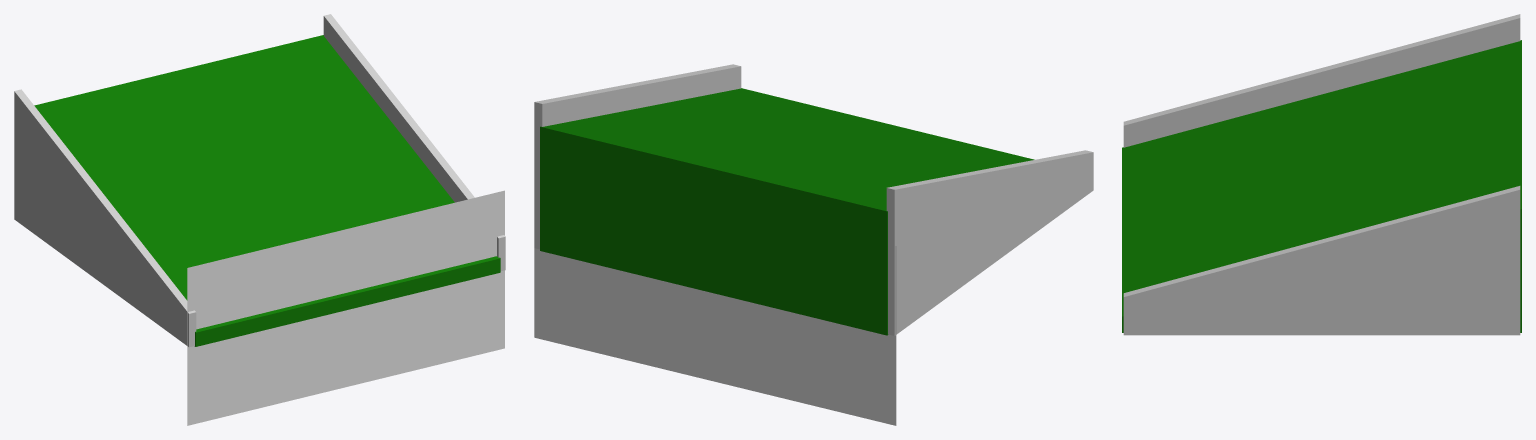
File: slope.gltf
The picture shows the model from 3 angles, left to right: view 1: azimuth 30°, elevation 25°; view 2: azimuth 150°, elevation 25°; view 3: azimuth 270°, elevation 25°; orthographic projection. The views are drawn at different scales.
Parts seen in each view (by area): view 1: Cube, obj_snap, Cube.001, Cube.002; view 2: Cube, obj_snap.001, Cube.001, Cube.002; view 3: Cube, Cube.002, Cube.001.
Part boxes in pixels (x1,y1,x2,y2): Cube: (34,35,500,346); obj_snap: (187,190,504,425); Cube.001: (14,89,196,347); Cube.002: (323,14,505,271); Cube: (540,88,1034,335); obj_snap.001: (534,246,896,425); Cube.001: (886,150,1093,335); Cube.002: (534,64,741,249); Cube: (1122,40,1521,332); Cube.002: (1123,186,1520,335); Cube.001: (1123,14,1520,147).
Bounding box in the file's own units: 4.21 × 2.63 × 4.04.
